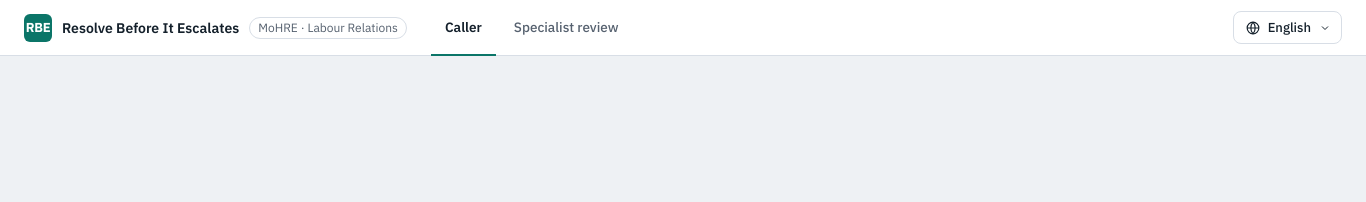
Test: LanguageMenu › opens, switches language and closes
This screenshot has width=1366, height=202.
Step 1. Click the button → (1287, 28), box top-left (1233, 11), bottom-right (1342, 44)
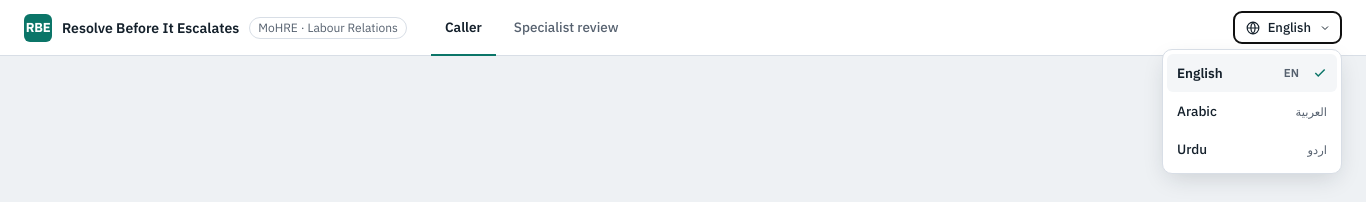
Check: the number of options is 3
Step 2. Click the option "Arabic العربية" → (1252, 111), box top-left (1167, 92), bottom-right (1337, 130)
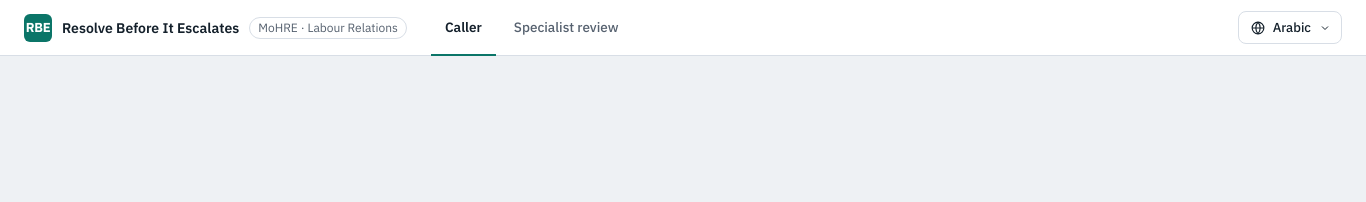
Check: the list is gone
Check: the button reads "Arabic", box top-left (1238, 11), bottom-right (1342, 44)
